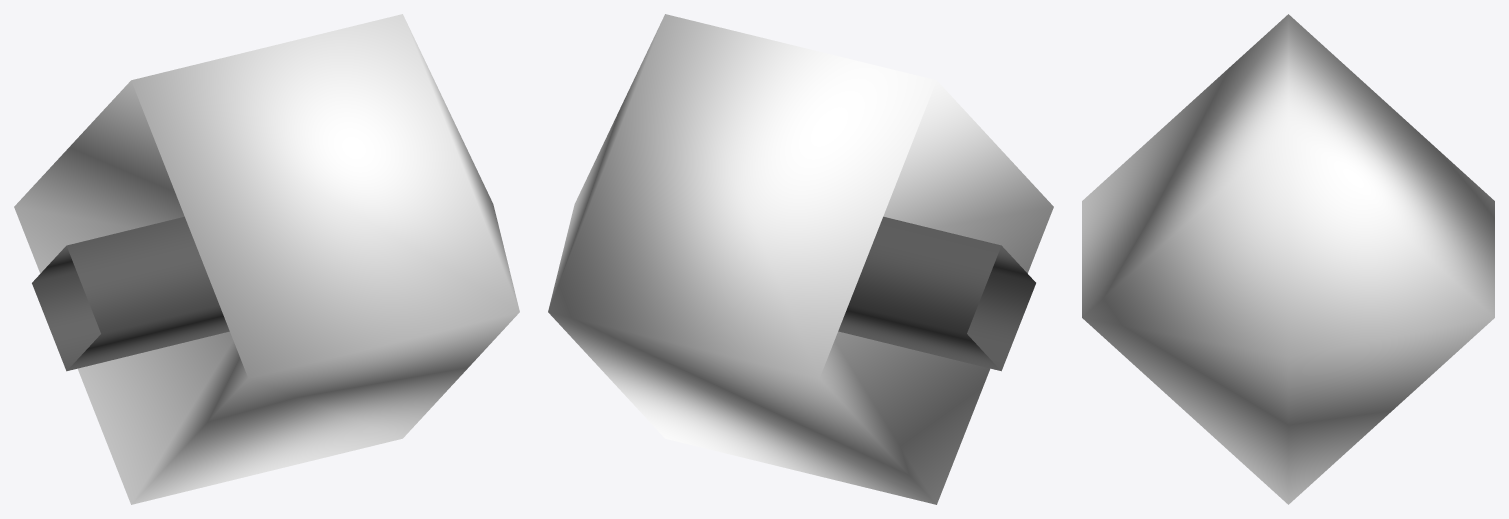
File: Shin.obj
3 renders of one model, left to right at view 1: azimuth 30°, elevation 25°; view 2: azimuth 150°, elevation 25°; view 3: azimuth 270°, elevation 25°, orthographic. The views are drawn at different scales.
Parts seen in each view (by area): view 1: Object005; view 2: Object005; view 3: Object005.
Part boxes in pixels (bbox=[...]): Object005: bbox=[14, 14, 519, 504]; Object005: bbox=[548, 14, 1053, 504]; Object005: bbox=[1082, 14, 1494, 504].
Size of the model in its own units: 1.79 by 1.7 by 1.7.
